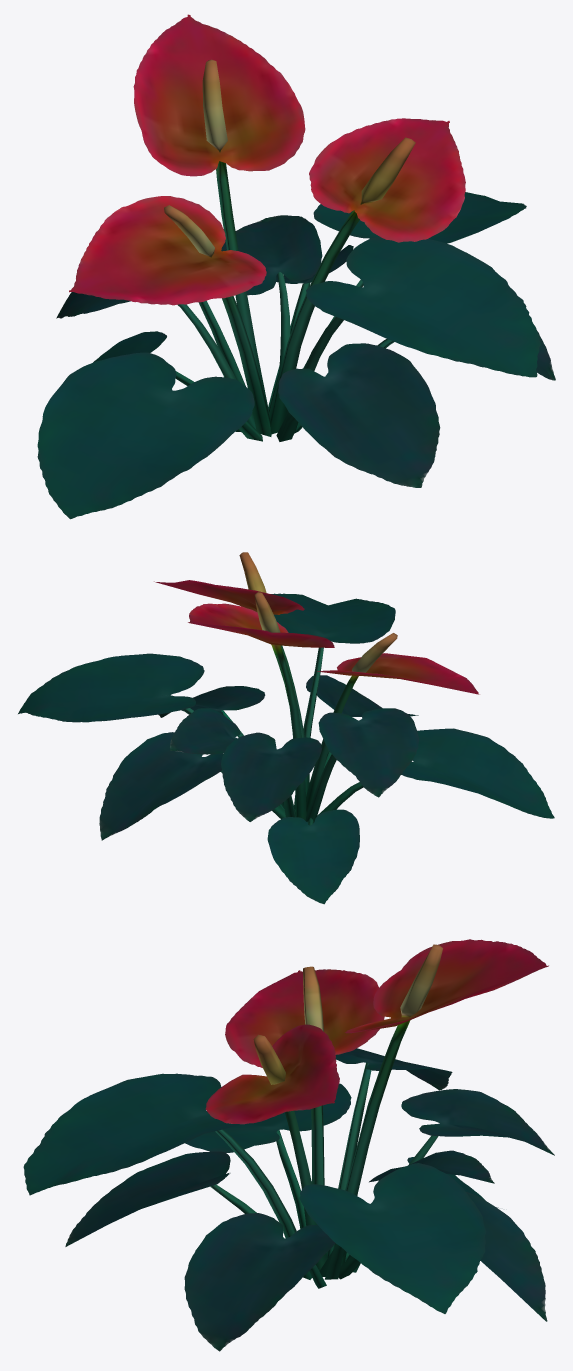
Rendered from anthurium.glb.
The picture shows the model from 3 angles, top to bottom: view 1: azimuth 30°, elevation 25°; view 2: azimuth 150°, elevation 25°; view 3: azimuth 270°, elevation 25°; orthographic projection. The views are drawn at different scales.
Bounding box in the file's own units: 11.64 × 6.57 × 9.54.
1 material, 1 textured.
